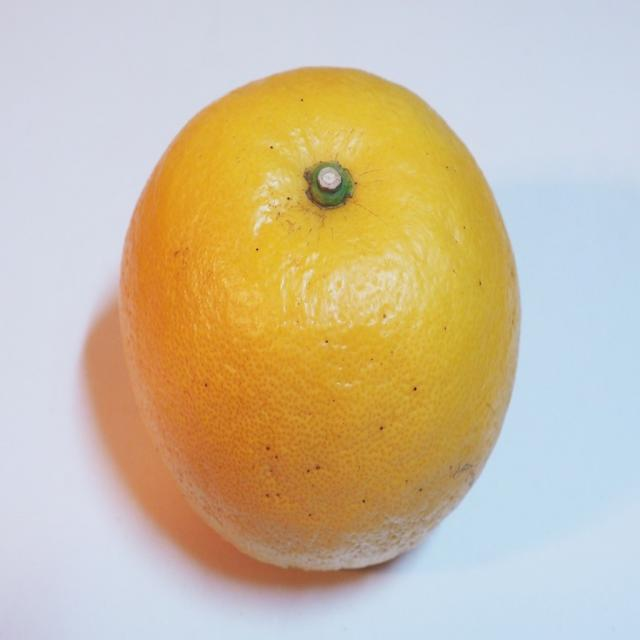Orange: (119, 63, 530, 573)
